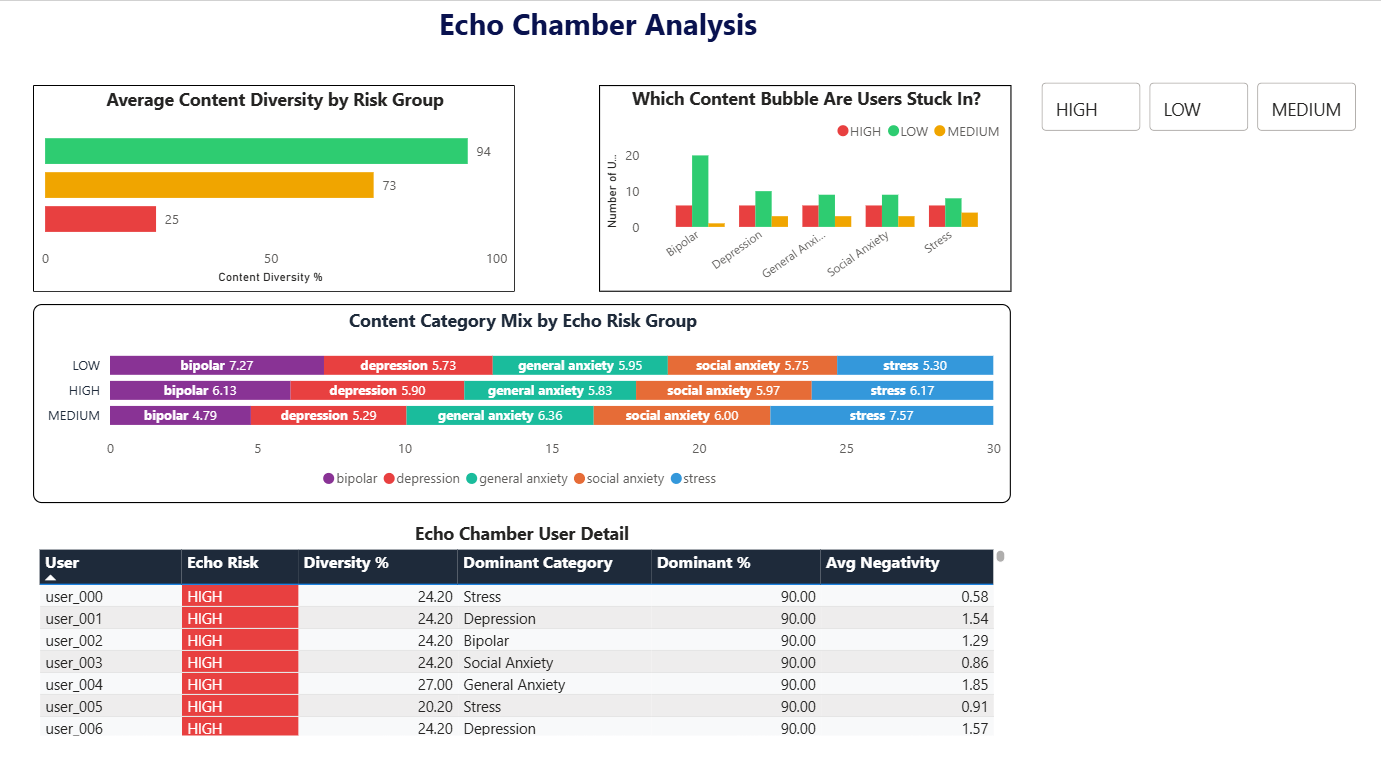

Layout of this report page (visuals, bound fields, positions):
{"tool":"powerbi","page":{"name":"Echo Chamber Analysis","canvas":[1280,720],"ordinal":1},"visuals":[{"type":"textbox","box":[382,18,331,52],"z":0},{"type":"clusteredBarChart","title":"Average Content Diversity by Risk Group","fields":{"Category":["echo_chamber_detail.echo_chamber_risk"],"Y":["Avg(echo_chamber_detail.diversity_pct)"]},"box":[34,97,438,188],"z":1000},{"type":"clusteredColumnChart","title":"Which Content Bubble Are Users Stuck In?","fields":{"Y":["CountNonNull(echo_chamber_detail.user_id)"],"Category":["echo_chamber_detail.dominant_category_name"],"Series":["echo_chamber_detail.echo_chamber_risk"]},"box":[548,97,375,188],"z":2000},{"type":"barChart","title":"Content Category Mix by Echo Risk Group","fields":{"Y":["Avg(echo_chamber_detail.count_bipolar)","Avg(echo_chamber_detail.count_depression)","Avg(echo_chamber_detail.count_general_anxiety)","Avg(echo_chamber_detail.count_social_anxiety)","Avg(echo_chamber_detail.count_stress)"],"Category":["echo_chamber_detail.echo_chamber_risk"]},"box":[34,296,889,181],"z":3000},{"type":"advancedSlicerVisual","fields":{"Values":["echo_chamber_detail.echo_chamber_risk"]},"box":[945,90,297,54],"z":4000},{"type":"tableEx","title":"Echo Chamber User Detail","fields":{"Values":["echo_chamber_detail.user_id","echo_chamber_detail.echo_chamber_risk","Avg(echo_chamber_detail.diversity_pct)","echo_chamber_detail.dominant_category_name","Avg(echo_chamber_detail.dominant_pct)","Avg(echo_chamber_detail.avg_negativity)"]},"box":[34,494,889,200],"z":5000}]}

Visuals, with their boxes in screenshot pixels (x1, y1, x2, y2), scaled from the page's 1280x720 canvas onto the 1381x757 screenshot:
textbox: 412:19:769:74
"Average Content Diversity by Risk Group" clusteredBarChart: 37:102:509:300
"Which Content Bubble Are Users Stuck In?" clusteredColumnChart: 591:102:996:300
"Content Category Mix by Echo Risk Group" barChart: 37:311:996:502
advancedSlicerVisual - echo_chamber_detail.echo_chamber_risk: 1020:95:1340:151
"Echo Chamber User Detail" tableEx: 37:519:996:730
